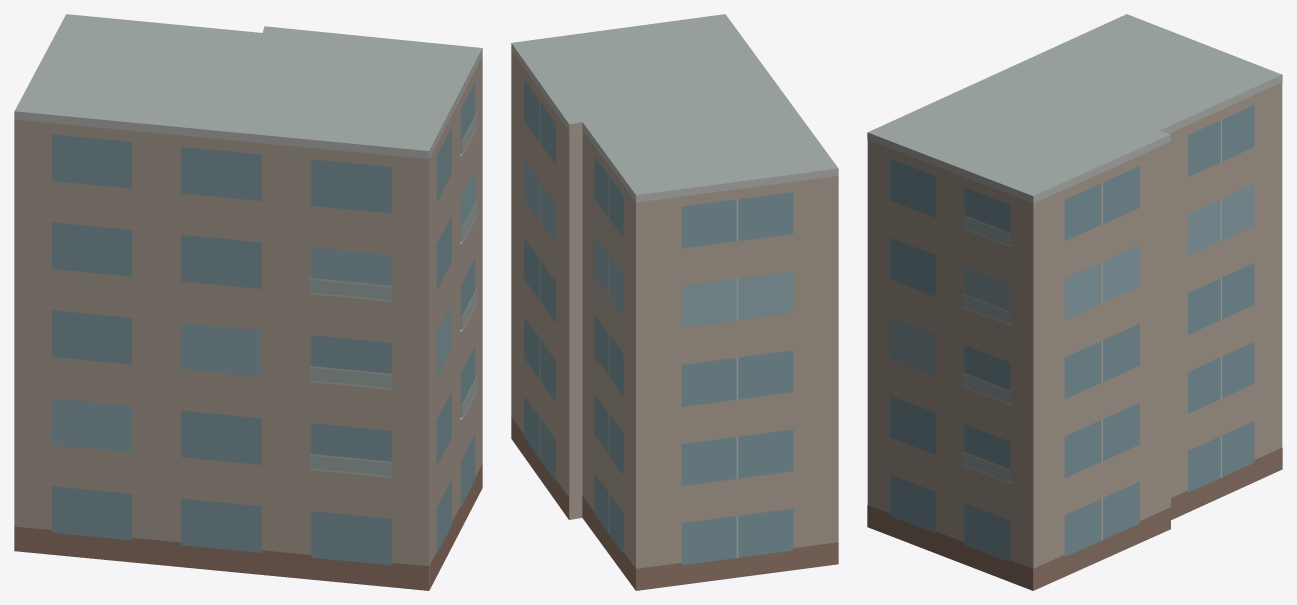
File: survey-upis-32652666.glb
3 views of the same model, side by side, from view 1: azimuth 30°, elevation 25°; view 2: azimuth 150°, elevation 25°; view 3: azimuth 270°, elevation 25° (orthographic). The views are drawn at different scales.
Parts seen in each view (by area): view 1: survey-upis-32652666.tmp; view 2: survey-upis-32652666.tmp; view 3: survey-upis-32652666.tmp.
Boxes of the visible parts, x1=… form: survey-upis-32652666.tmp: x1=14, y1=14, x2=482, y2=590; survey-upis-32652666.tmp: x1=511, y1=14, x2=838, y2=590; survey-upis-32652666.tmp: x1=867, y1=14, x2=1282, y2=590.
Size of the model in its own units: 12.97 by 13.1 by 12.49.
